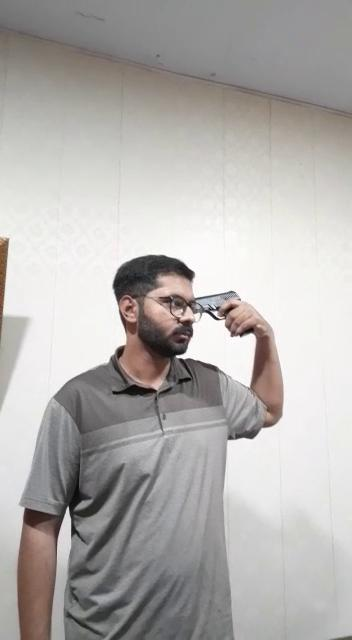criminal: (11, 249, 289, 640)
weapon: (187, 285, 243, 336)
